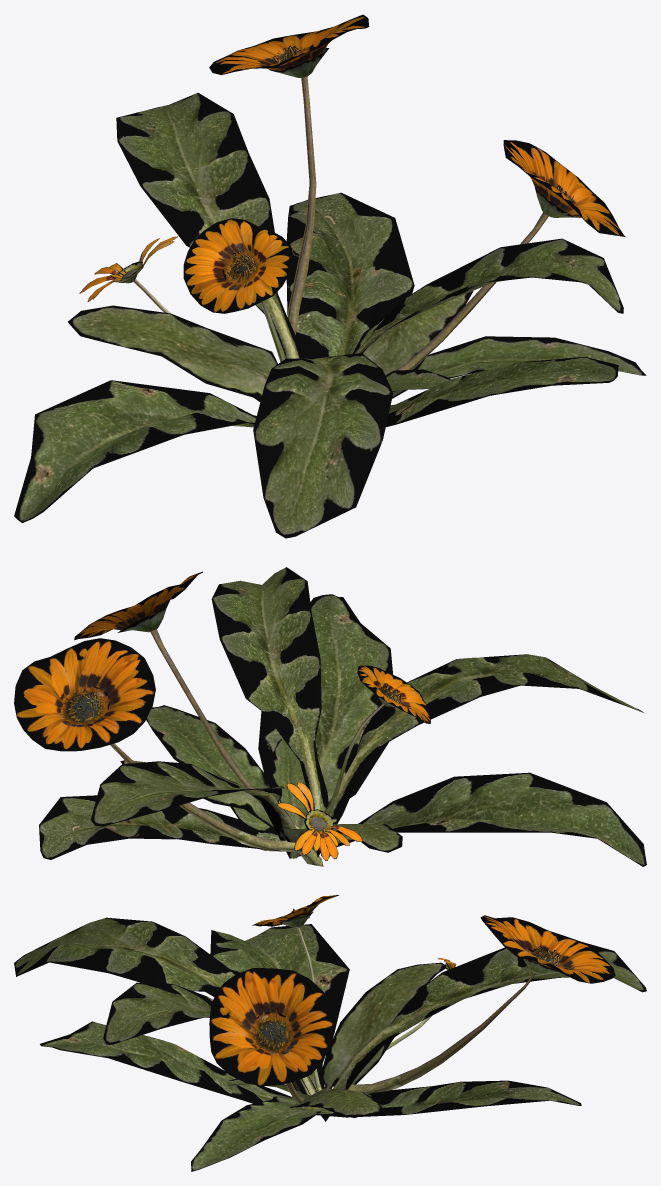
Rendered from flower_gazania_03.glb.
3 renders of one model, top to bottom at view 1: azimuth 30°, elevation 25°; view 2: azimuth 150°, elevation 25°; view 3: azimuth 270°, elevation 25°, orthographic. The views are drawn at different scales.
Visible parts, largest first — view 1: flower_gazania; view 2: flower_gazania; view 3: flower_gazania.
Boxes of the visible parts, box(x1,y1,x2,y2) form: flower_gazania: box(14, 14, 646, 538); flower_gazania: box(14, 567, 646, 866); flower_gazania: box(14, 895, 646, 1171).
Size of the model in its own units: 0.2694 by 0.1244 by 0.2884.
1 material, 1 textured.
